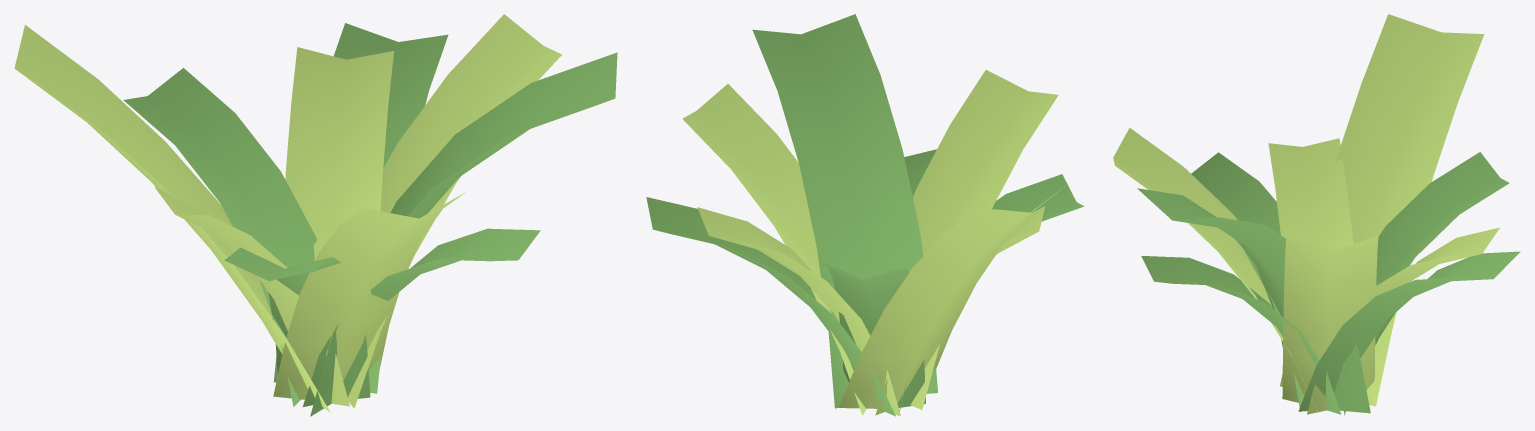
The model's file is plant_tuft_3.glb.
The picture shows the model from 3 angles, left to right: view 1: azimuth 30°, elevation 25°; view 2: azimuth 150°, elevation 25°; view 3: azimuth 270°, elevation 25°; orthographic projection. The views are drawn at different scales.
Parts seen in each view (by area): view 1: plant_tuft_3; view 2: plant_tuft_3; view 3: plant_tuft_3.
Boxes of the visible parts, x1,y1,x2,y2 form: plant_tuft_3: (14, 14, 617, 416); plant_tuft_3: (646, 14, 1084, 416); plant_tuft_3: (1113, 14, 1520, 415).
Bounding box in the file's own units: 1.5 × 1.05 × 1.35.
